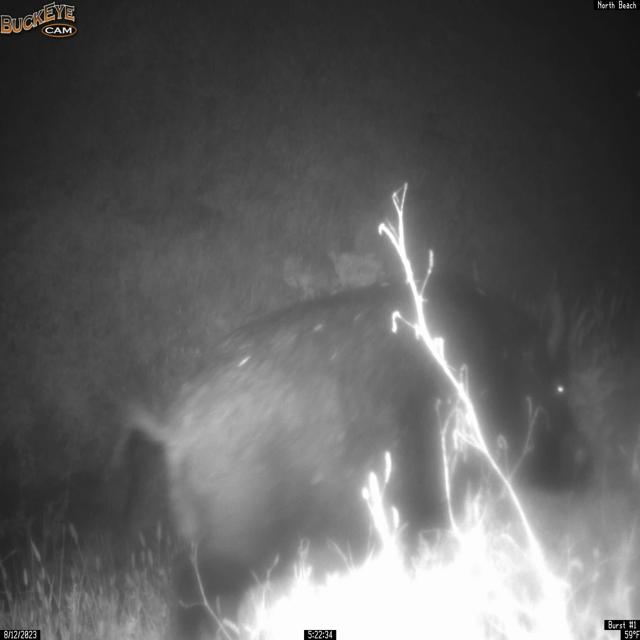pig: (108, 270, 577, 640)
